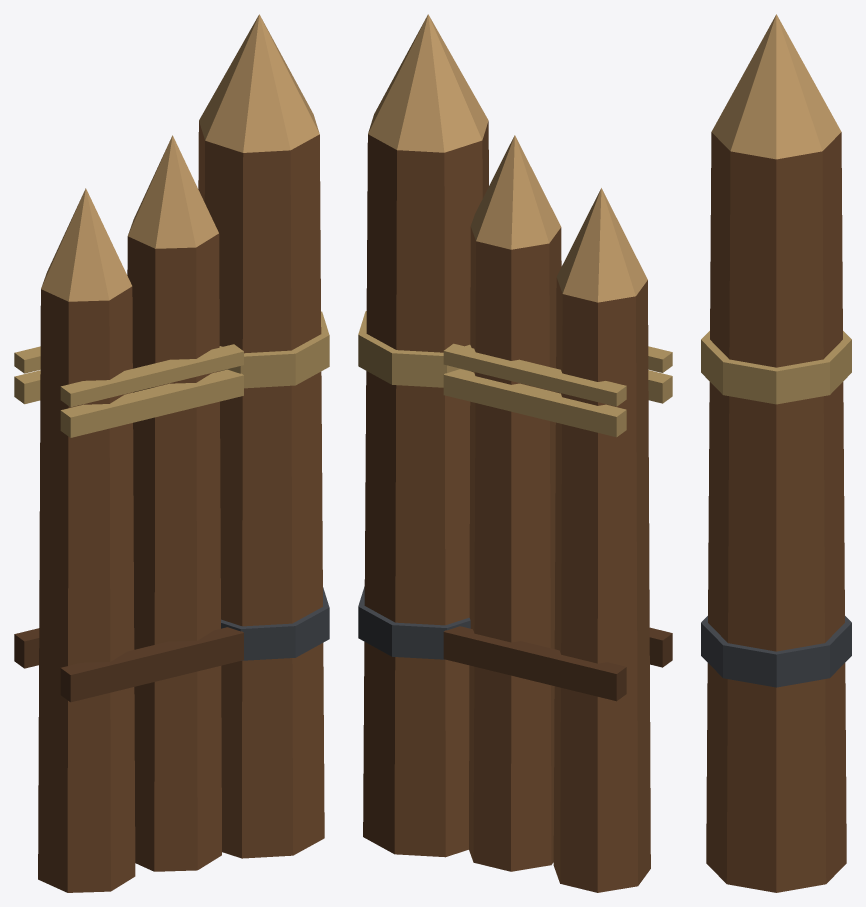
The model's file is palisade_end.glb.
3 views of the same model, side by side, from view 1: azimuth 30°, elevation 25°; view 2: azimuth 150°, elevation 25°; view 3: azimuth 270°, elevation 25° (orthographic). The views are drawn at different scales.
Parts seen in each view (by area): view 1: wall_palisade_end; view 2: wall_palisade_end; view 3: wall_palisade_end.
Part boxes in pixels (box(x1,y1,x2,y2)): wall_palisade_end: box(14, 14, 329, 892); wall_palisade_end: box(358, 14, 672, 892); wall_palisade_end: box(701, 14, 851, 892).
Size of the model in its own units: 1.29 by 3.6 by 0.58.
